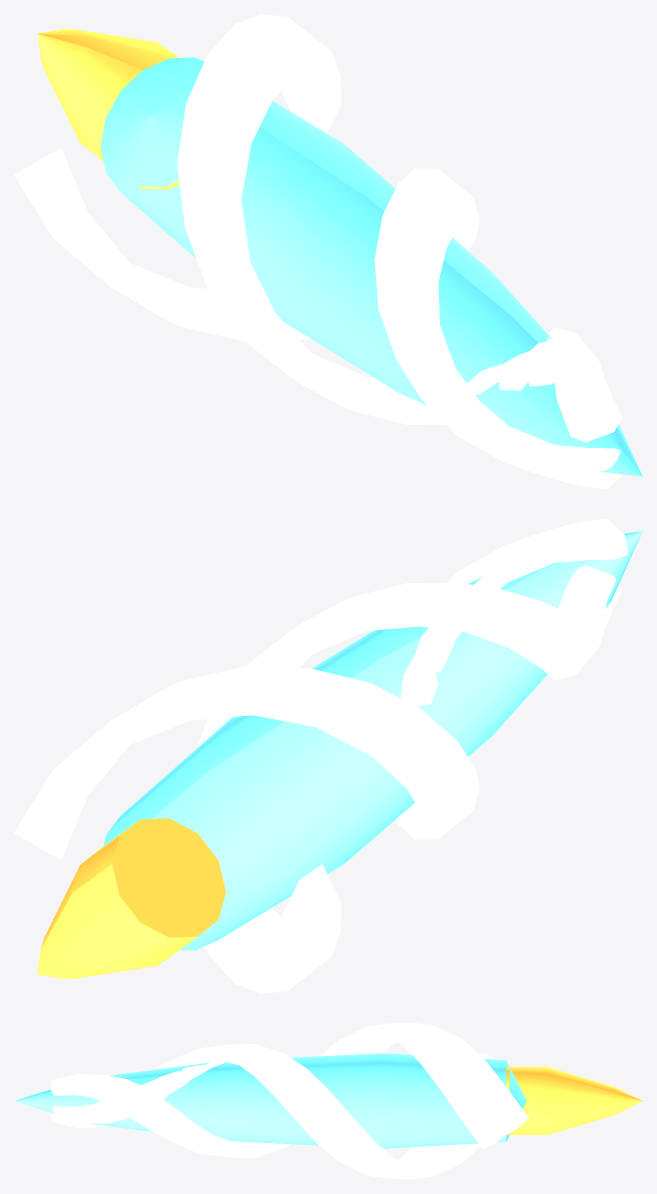
The model's file is vfx-mesh-library-spiral-drill-bolt-0e7b5c08__21878.glb.
The picture shows the model from 3 angles, top to bottom: view 1: azimuth 30°, elevation 25°; view 2: azimuth 150°, elevation 25°; view 3: azimuth 270°, elevation 25°; orthographic projection. The views are drawn at different scales.
Parts seen in each view (by area): view 1: spiral-drill-bolt; view 2: spiral-drill-bolt; view 3: spiral-drill-bolt.
Part boxes in pixels (x1,y1,x2,y2): spiral-drill-bolt: [14, 14, 642, 489]; spiral-drill-bolt: [14, 518, 642, 993]; spiral-drill-bolt: [15, 1022, 642, 1179].
Bounding box in the file's own units: 0.2519 × 0.2346 × 0.92.
